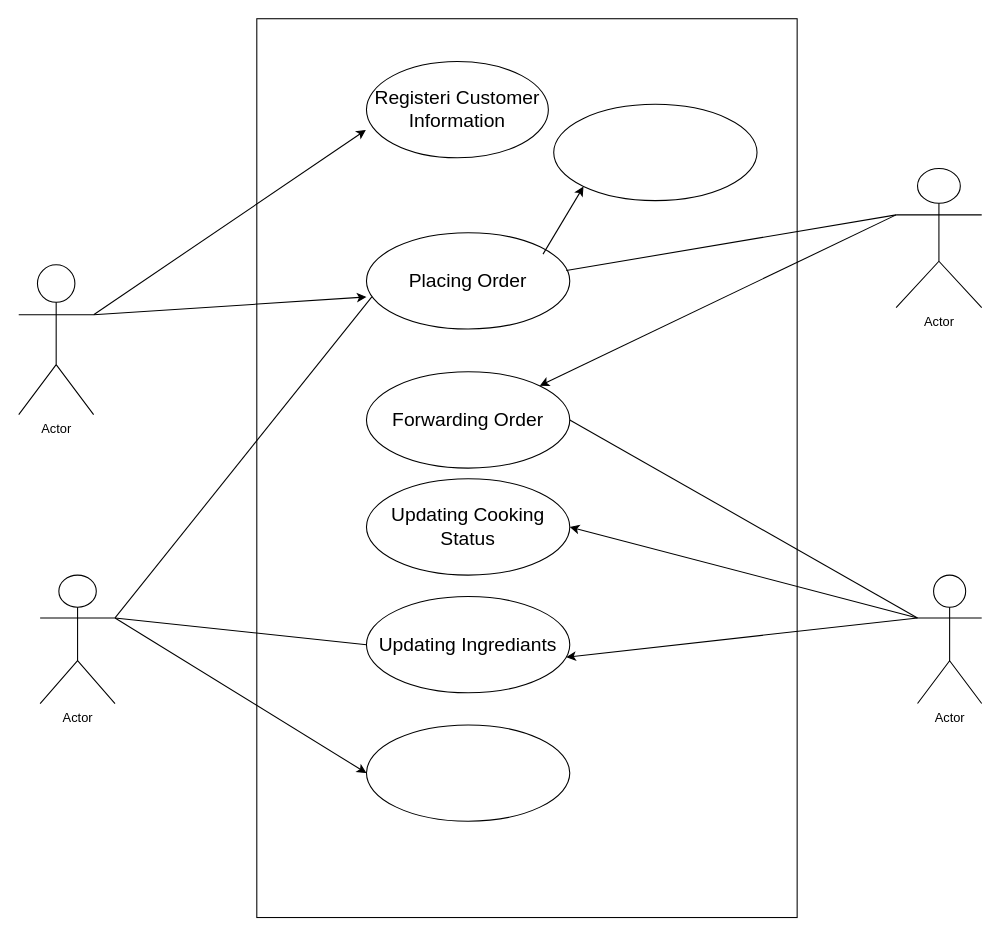
Image size: 1000x936. Some labels were removed from this diagram. The centre of each missing label's shape, as x and y in pixels:
"Update Order Status" belongs at point 467,772.
"Validating Order" belongs at point 655,152.
